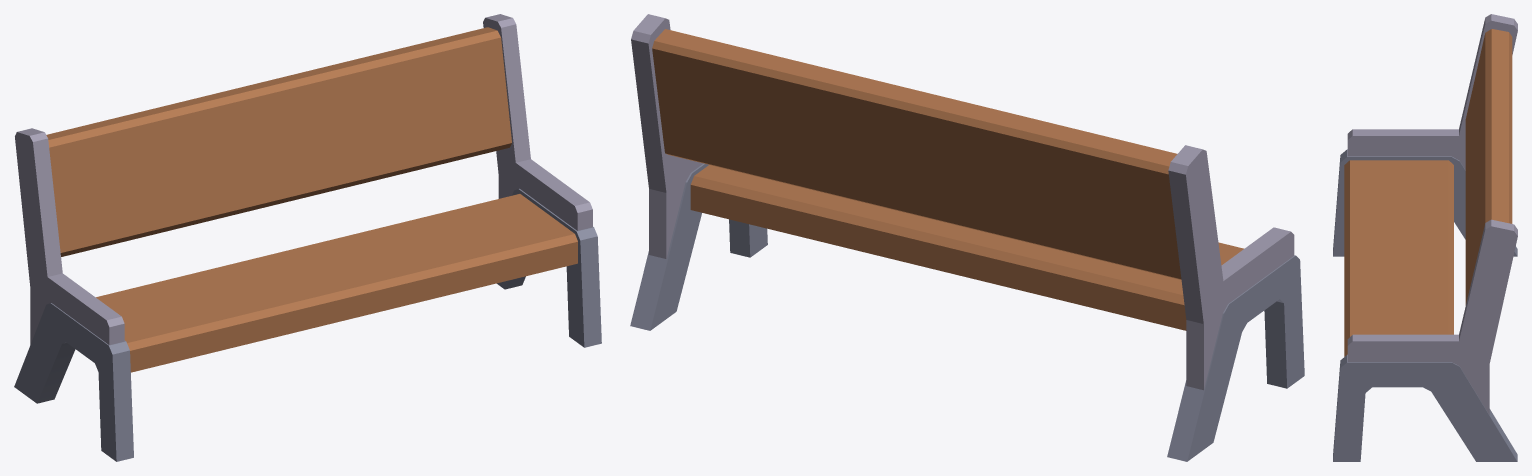
File: bench_modguide.fbx
3 renders of one model, left to right at view 1: azimuth 30°, elevation 25°; view 2: azimuth 150°, elevation 25°; view 3: azimuth 270°, elevation 25°, orthographic. The views are drawn at different scales.
Parts seen in each view (by area): view 1: bench_modguide; view 2: bench_modguide; view 3: bench_modguide.
Part boxes in pixels (x1,y1,x2,y2): bench_modguide: (14, 14, 601, 461); bench_modguide: (630, 14, 1304, 461); bench_modguide: (1333, 14, 1517, 461).
Bounding box in the file's own units: 0.5955 × 0.3066 × 0.2184.
